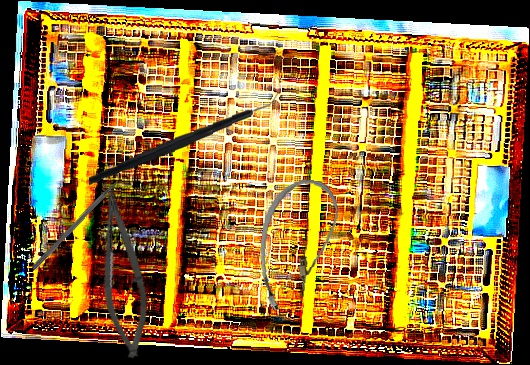Cannula: (253, 175, 342, 316)
Chopper: (84, 85, 285, 187)
Micro Scissor: (83, 184, 159, 363)
Pusher: (31, 169, 130, 272)
